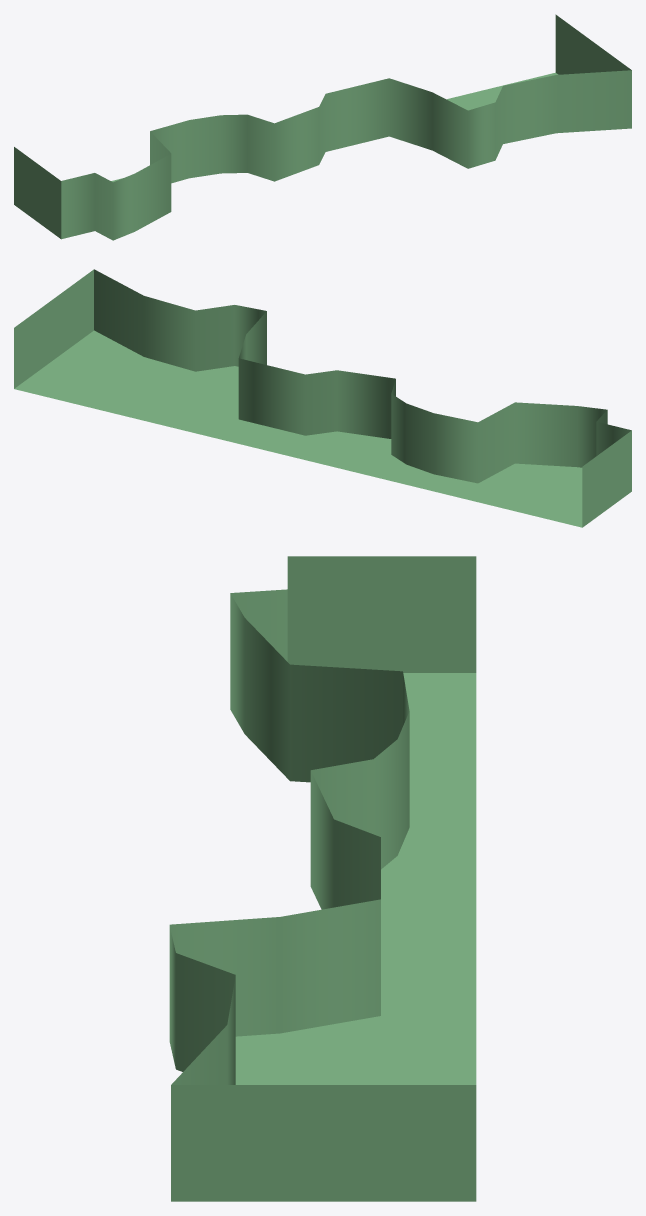
The model's file is Hallway_Cap_16_B_COL.FBX.
3 renders of one model, top to bottom at view 1: azimuth 30°, elevation 25°; view 2: azimuth 150°, elevation 25°; view 3: azimuth 270°, elevation 25°, orthographic. The views are drawn at different scales.
Parts seen in each view (by area): view 1: Hallway_Cap_16_B_COL; view 2: Hallway_Cap_16_B_COL; view 3: Hallway_Cap_16_B_COL.
Boxes of the visible parts, x1,y1,x2,y2 form: Hallway_Cap_16_B_COL: (14, 14, 631, 240); Hallway_Cap_16_B_COL: (14, 269, 631, 527); Hallway_Cap_16_B_COL: (169, 556, 476, 1201).
Bounding box in the file's own units: 1548 × 159 × 380.
